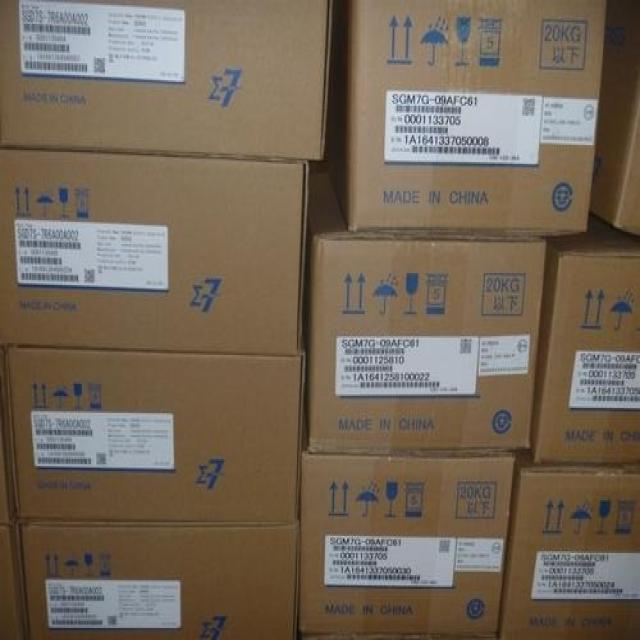box: (308, 167, 546, 450), (0, 150, 309, 357), (329, 3, 607, 233), (0, 0, 333, 161), (5, 347, 304, 523), (298, 449, 516, 637), (20, 524, 299, 638), (523, 209, 639, 465), (495, 448, 639, 637), (588, 4, 639, 234), (0, 346, 20, 521)
